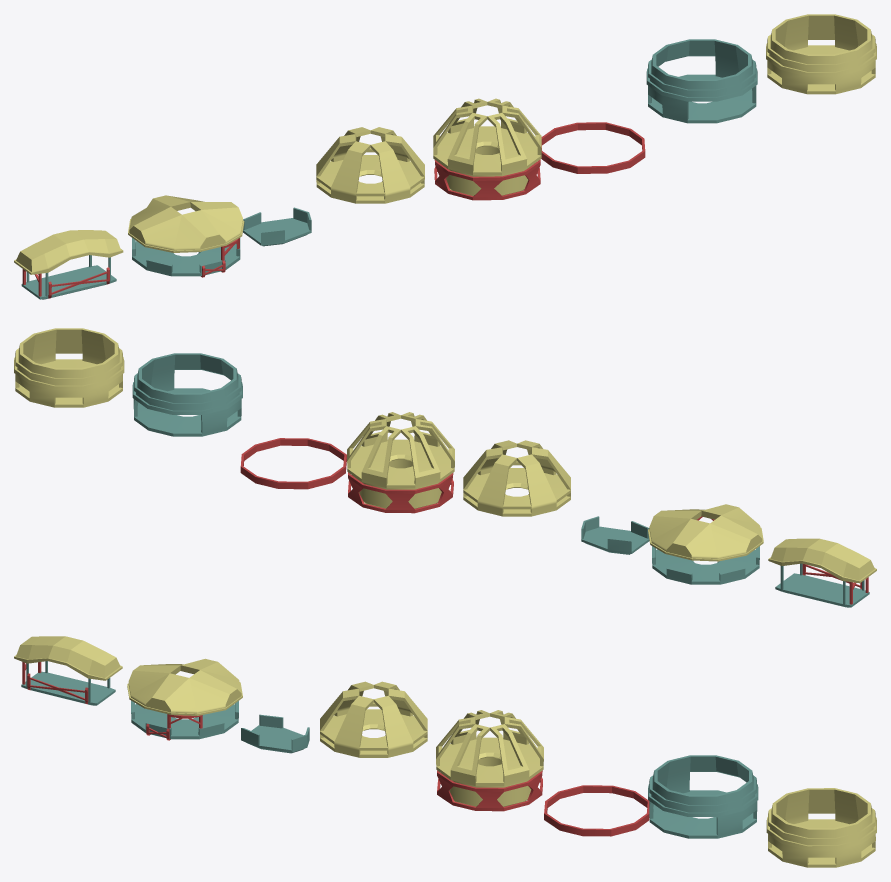
The model's file is Pueblo3_Ewok_UVs.fbx.
3 views of the same model, one above another, from view 1: azimuth 30°, elevation 25°; view 2: azimuth 150°, elevation 25°; view 3: azimuth 330°, elevation 25° (orthographic).
Parts seen in each view (by area): view 1: Techo_M03_UVs, Techo_M04_UVs, Base_M02_UVs, Techo_M02_UVs, Techo_M01_UVs, Puente_Techo_UVs, Base_M01_UVs, Aro_UVs, Valla_Circular_UVs, Puente_Plataforma_M02_UVs, Puente_Plataforma__M01_UVs; view 2: Techo_M03_UVs, Techo_M04_UVs, Base_M02_UVs, Techo_M02_UVs, Techo_M01_UVs, Puente_Techo_UVs, Base_M01_UVs, Aro_UVs, Puente_Plataforma__M01_UVs, Valla_Circular_UVs, Puente_Plataforma_M02_UVs; view 3: Techo_M03_UVs, Techo_M04_UVs, Base_M02_UVs, Techo_M02_UVs, Techo_M01_UVs, Puente_Techo_UVs, Base_M01_UVs, Aro_UVs, Valla_Circular_UVs, Puente_Plataforma_M02_UVs, Puente_Plataforma__M01_UVs.
Part boxes in pixels (box(x1,y1,x2,y2)): Techo_M03_UVs: box(766, 14, 876, 94); Techo_M04_UVs: box(433, 98, 541, 195); Base_M02_UVs: box(646, 39, 757, 123); Techo_M02_UVs: box(316, 127, 424, 203); Techo_M01_UVs: box(128, 195, 244, 252); Puente_Techo_UVs: box(14, 230, 123, 274); Base_M01_UVs: box(132, 238, 240, 276); Aro_UVs: box(541, 122, 645, 173); Valla_Circular_UVs: box(434, 159, 540, 200); Puente_Plataforma_M02_UVs: box(243, 207, 311, 246); Puente_Plataforma__M01_UVs: box(21, 255, 116, 299); Techo_M03_UVs: box(14, 328, 124, 407); Techo_M04_UVs: box(347, 412, 454, 508); Base_M02_UVs: box(132, 353, 242, 436); Techo_M02_UVs: box(463, 440, 570, 516); Techo_M01_UVs: box(648, 504, 763, 561); Puente_Techo_UVs: box(768, 538, 876, 583); Base_M01_UVs: box(652, 546, 759, 584); Aro_UVs: box(240, 438, 346, 489); Puente_Plataforma__M01_UVs: box(775, 563, 869, 607); Valla_Circular_UVs: box(348, 472, 453, 513); Puente_Plataforma_M02_UVs: box(581, 516, 649, 554); Techo_M03_UVs: box(766, 788, 876, 867); Techo_M04_UVs: box(436, 710, 543, 806); Base_M02_UVs: box(648, 755, 758, 838); Techo_M02_UVs: box(320, 681, 427, 757); Techo_M01_UVs: box(127, 658, 242, 715); Puente_Techo_UVs: box(14, 636, 122, 680); Base_M01_UVs: box(131, 700, 238, 739); Aro_UVs: box(544, 785, 649, 836); Valla_Circular_UVs: box(437, 770, 542, 811); Puente_Plataforma_M02_UVs: box(241, 714, 309, 753); Puente_Plataforma__M01_UVs: box(21, 661, 115, 705).
Size of the model in its own units: 135 by 11.19 by 16.22.
